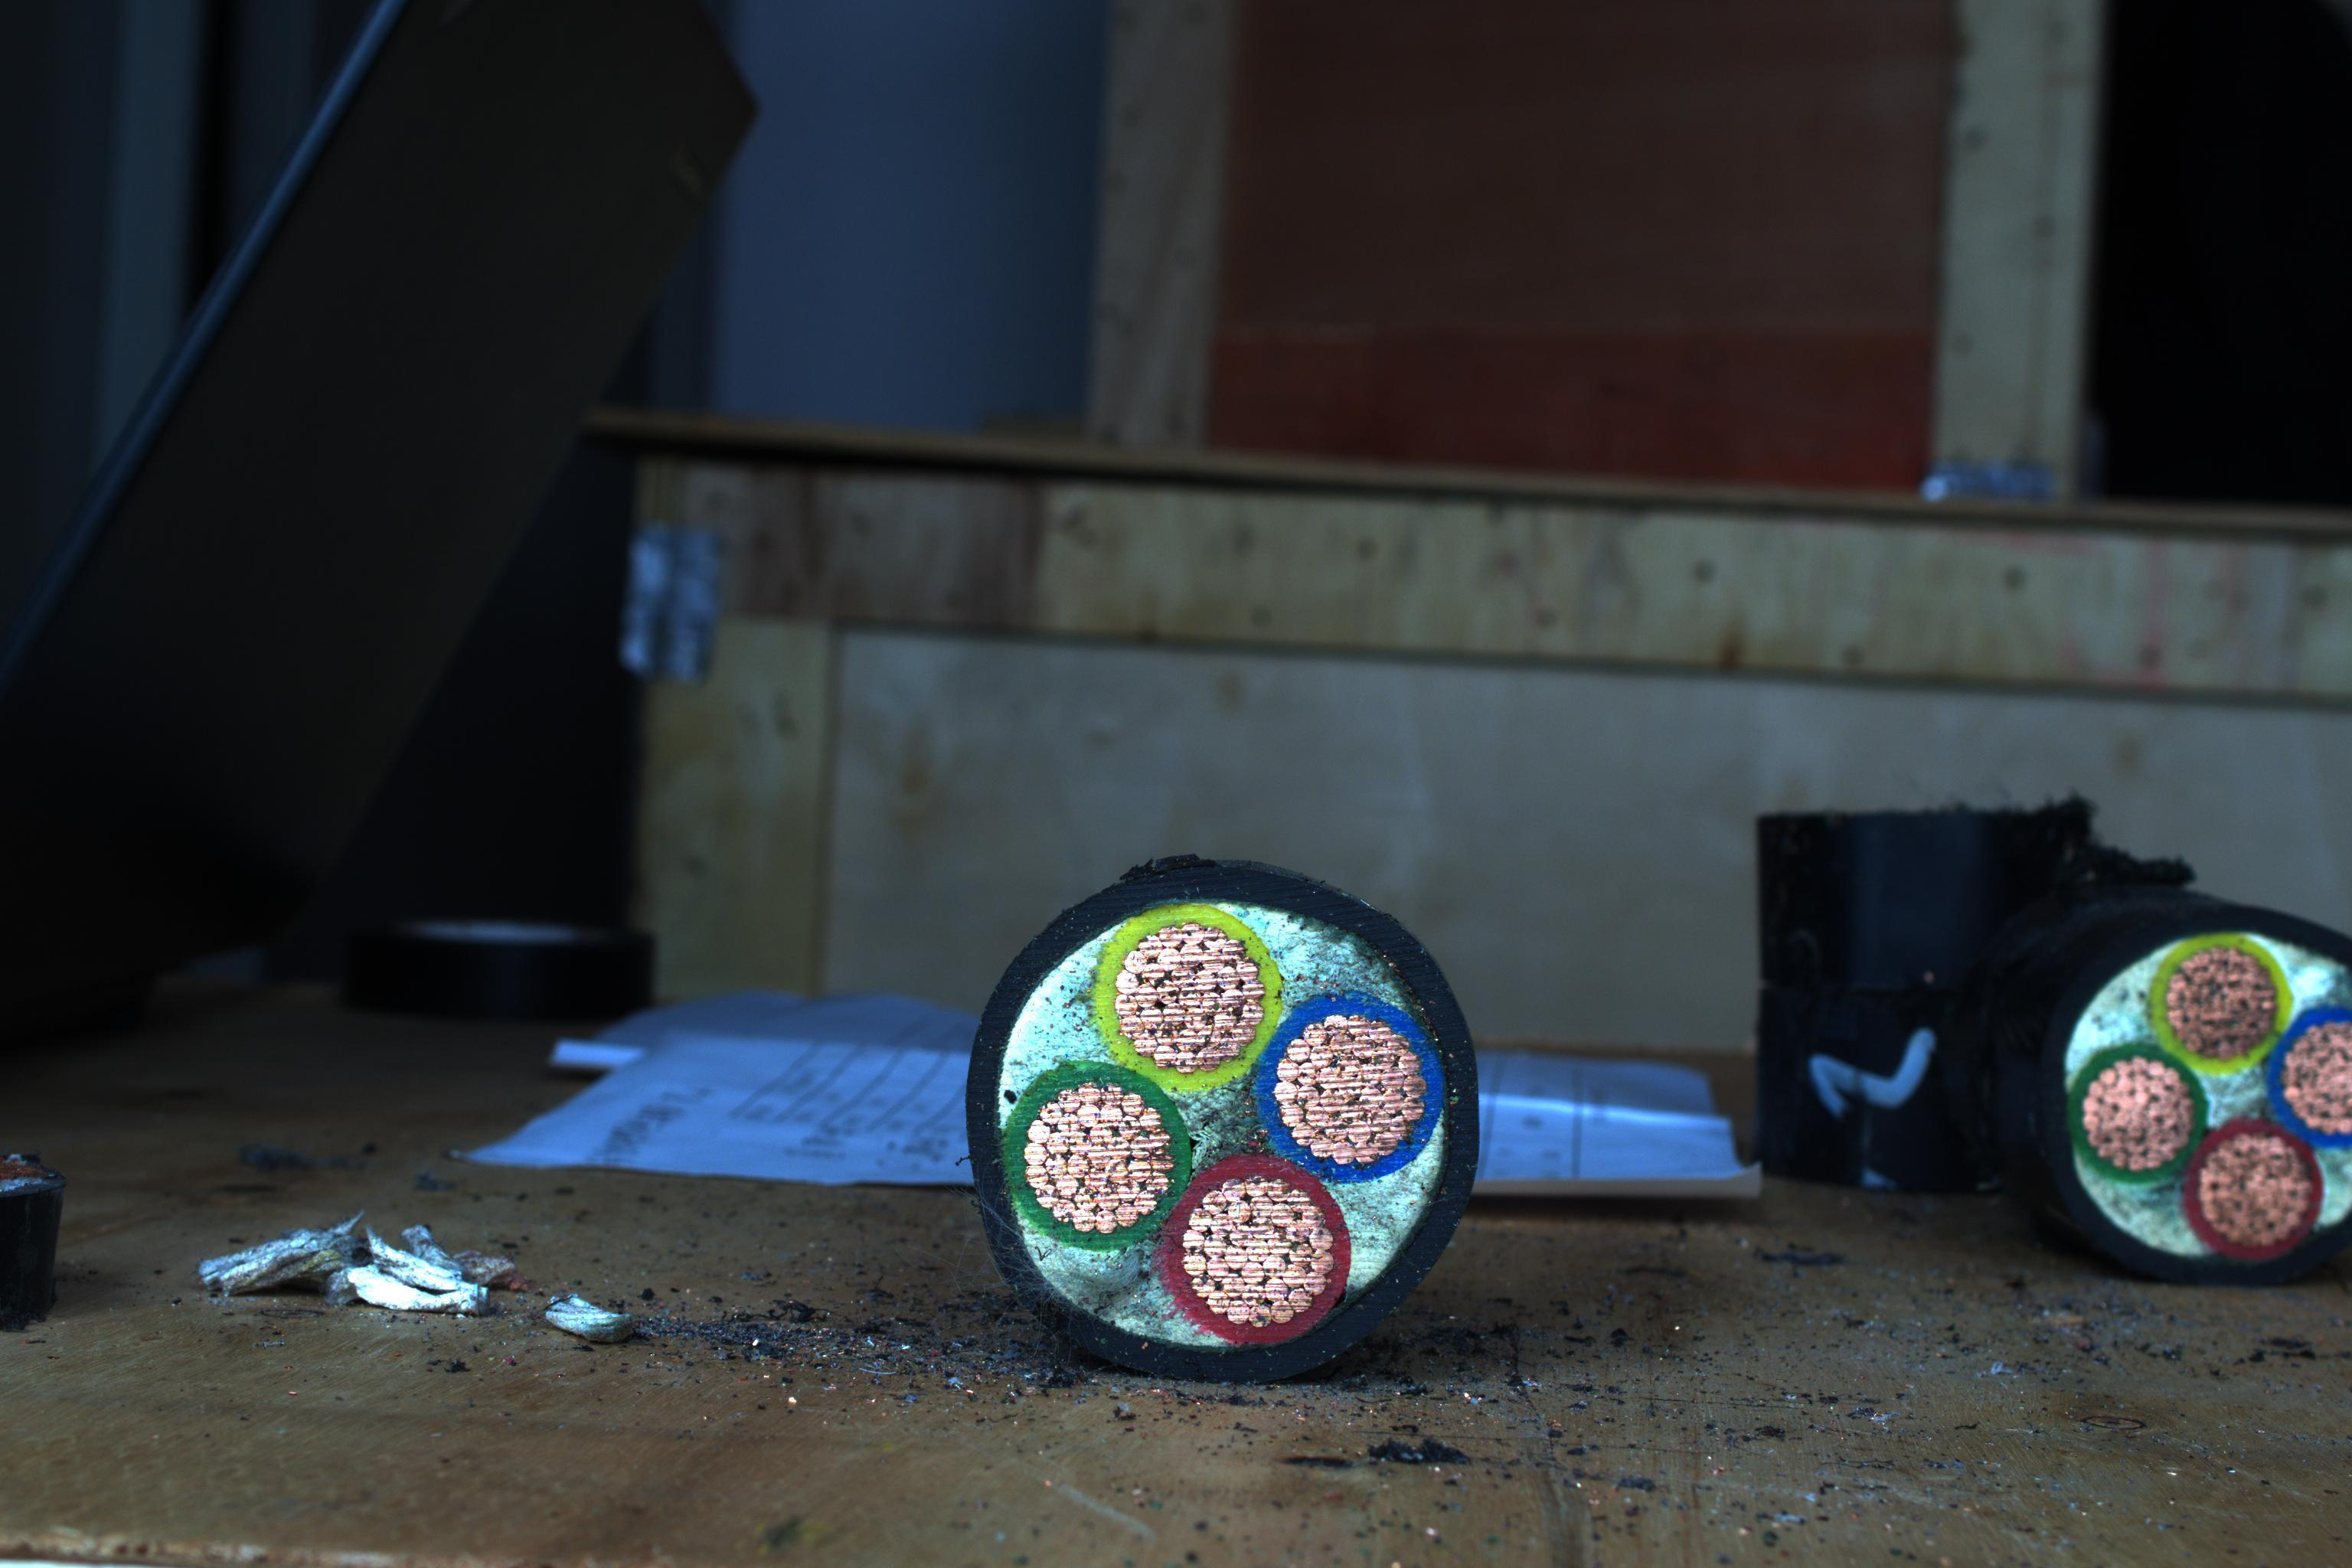YJV_0.6_1kV_4x185: (968, 854, 1479, 1382)
